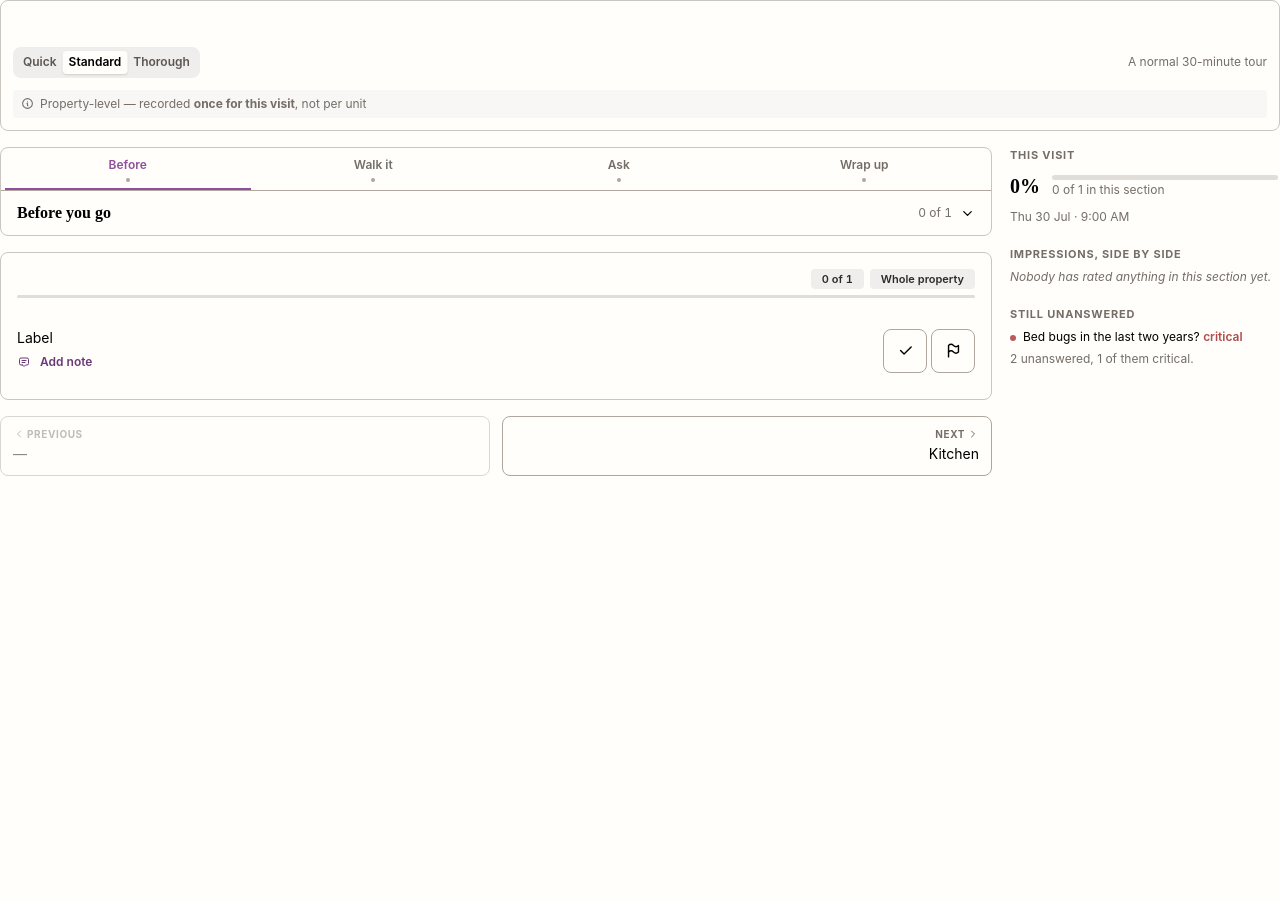
Scenario: mixed-scope sections › says the section is mixed instead of claiming one scope for all of it
What coordinates should you click on to do the following:
click the button "Before you go 0 of 1"
I would click on:
 (64, 212)
Its box is 13,191 -> 979,235.
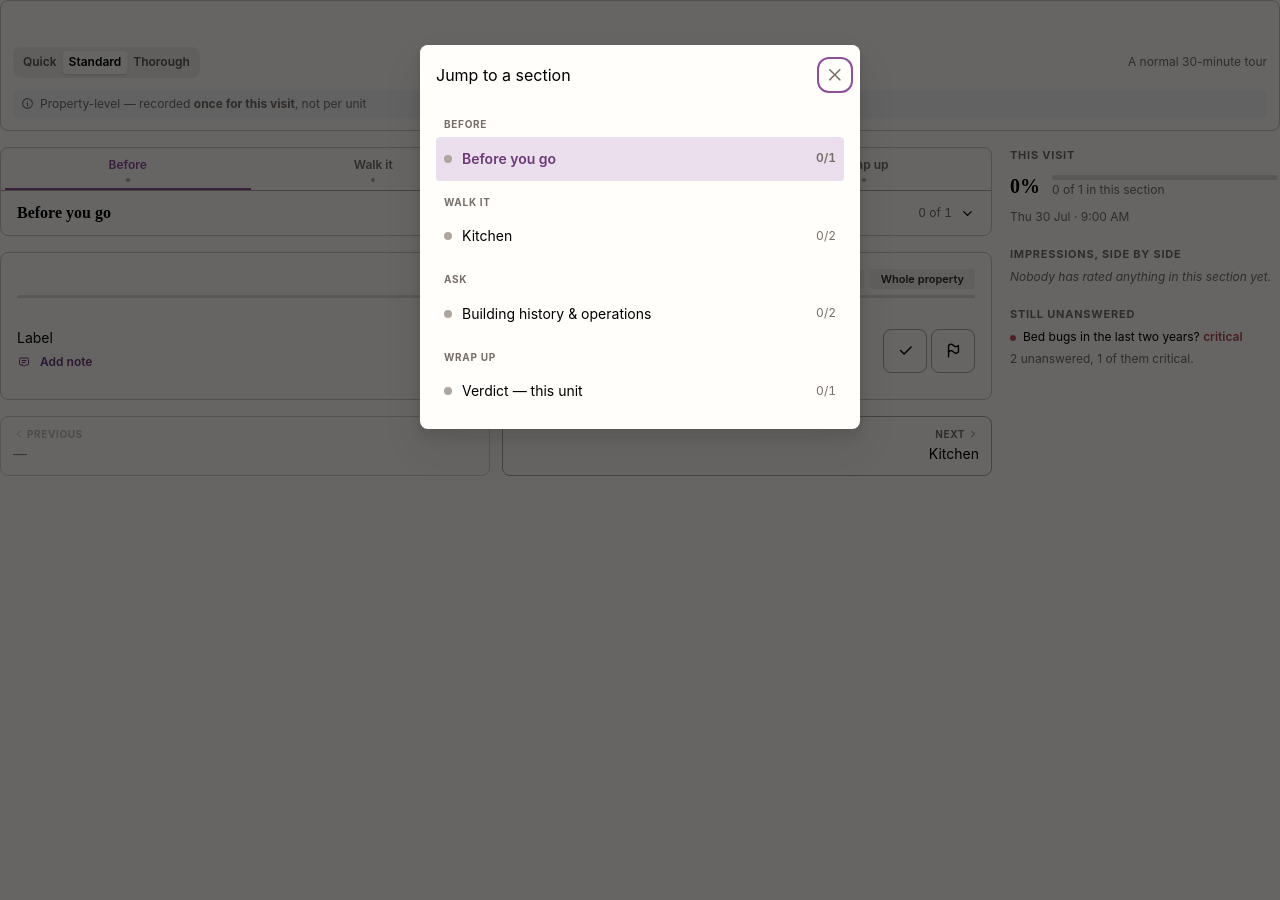
What coordinates should you click on to do the following:
click the button "Building history & operations 0/2"
I would click on:
 (640, 314)
Its box is 436,292 -> 844,336.
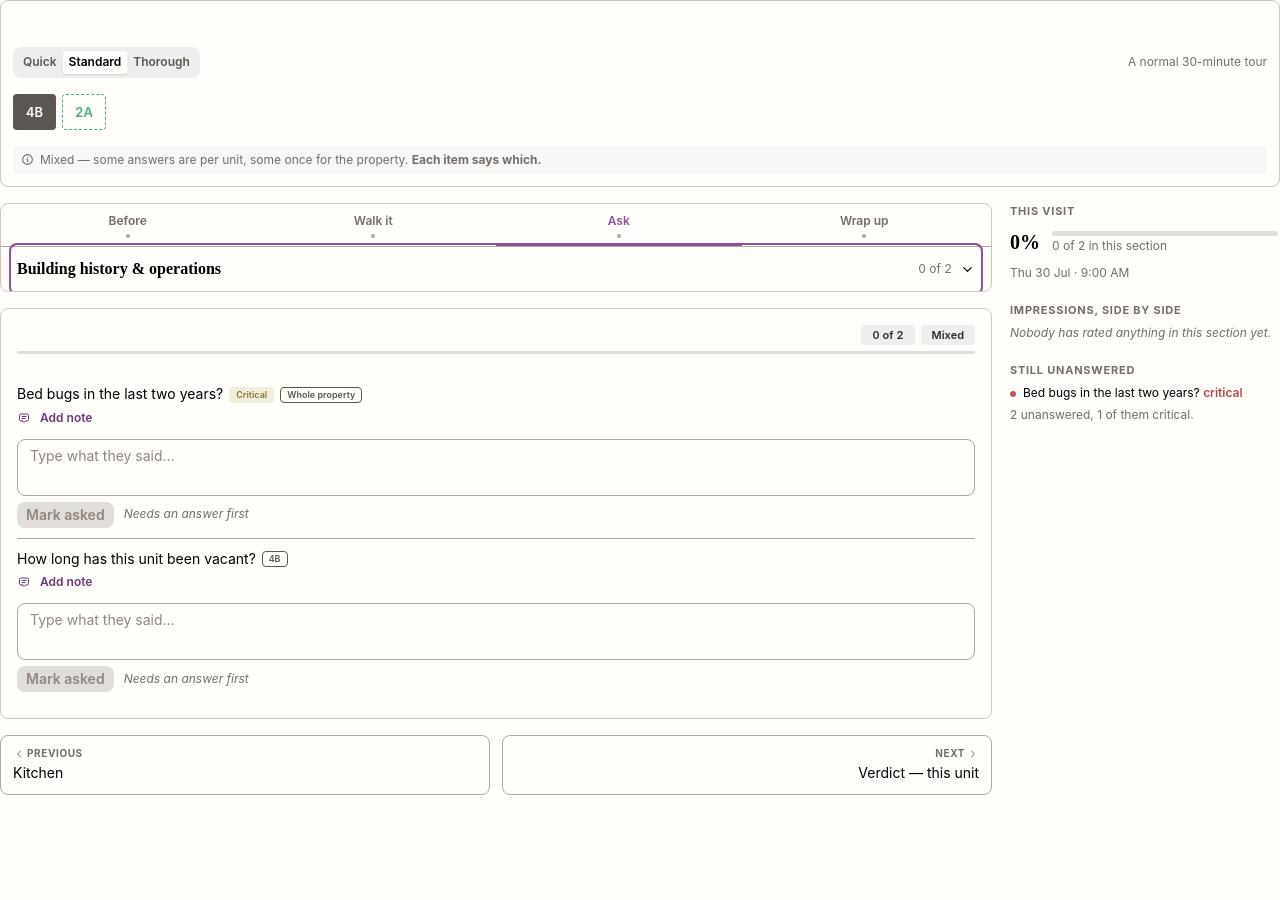
Now the text "Mixed —" is shown, box 40,152 -> 408,167
